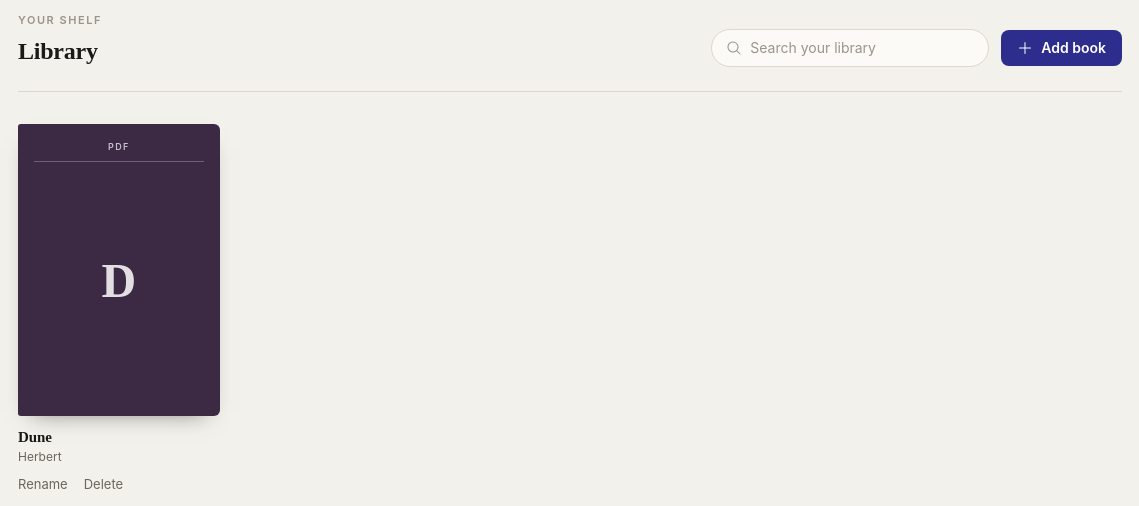
Test case: shows a no-match message when nothing matches the query
Check: the button "Dune" is shown, box x1=18 y1=428 x2=220 y2=447
Type "zzzz" into the search field labelled "Search your library".
click(862, 48); type("zzzz")  # box x1=750 y1=38 x2=974 y2=58
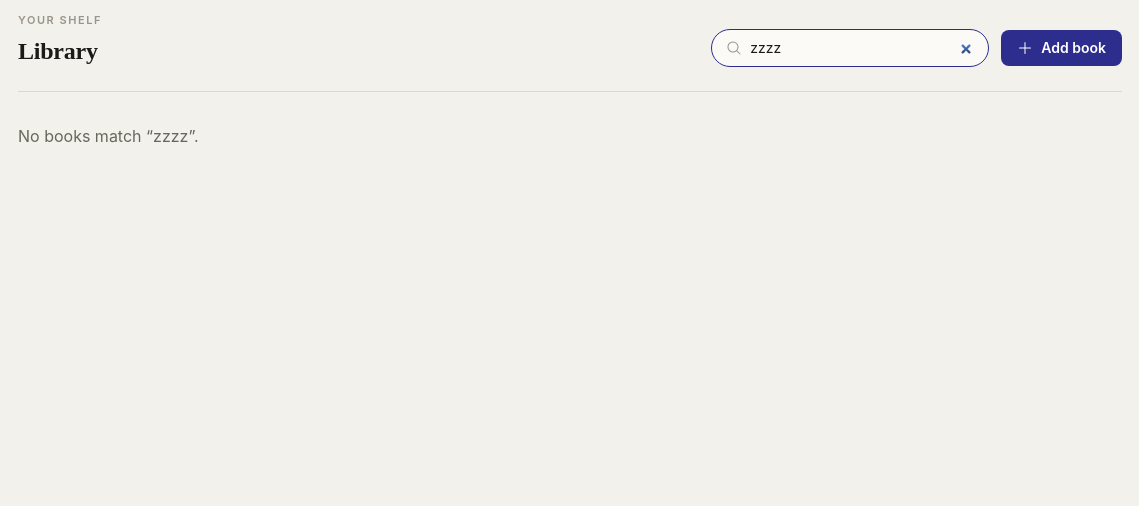
Check: the text "No books match “zzzz”." is shown, box x1=18 y1=126 x2=198 y2=146
